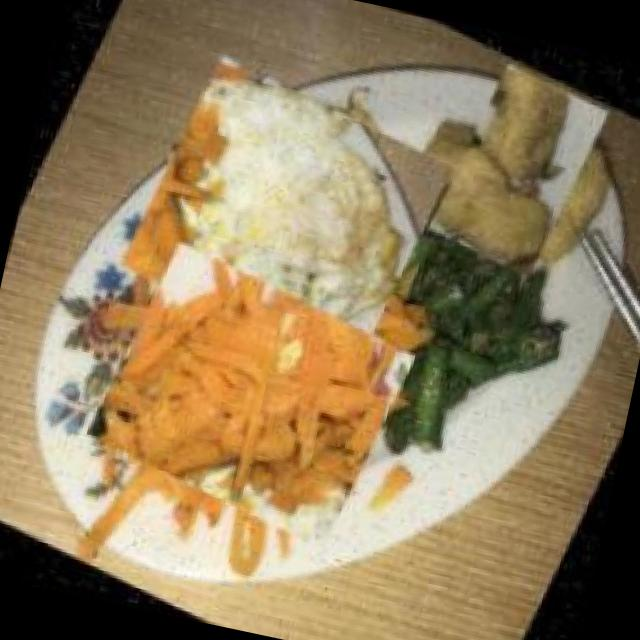carrot_eggs: (68, 224, 432, 562)
chicken_nuggets: (408, 60, 626, 277)
fried_eggs: (106, 37, 464, 396)
